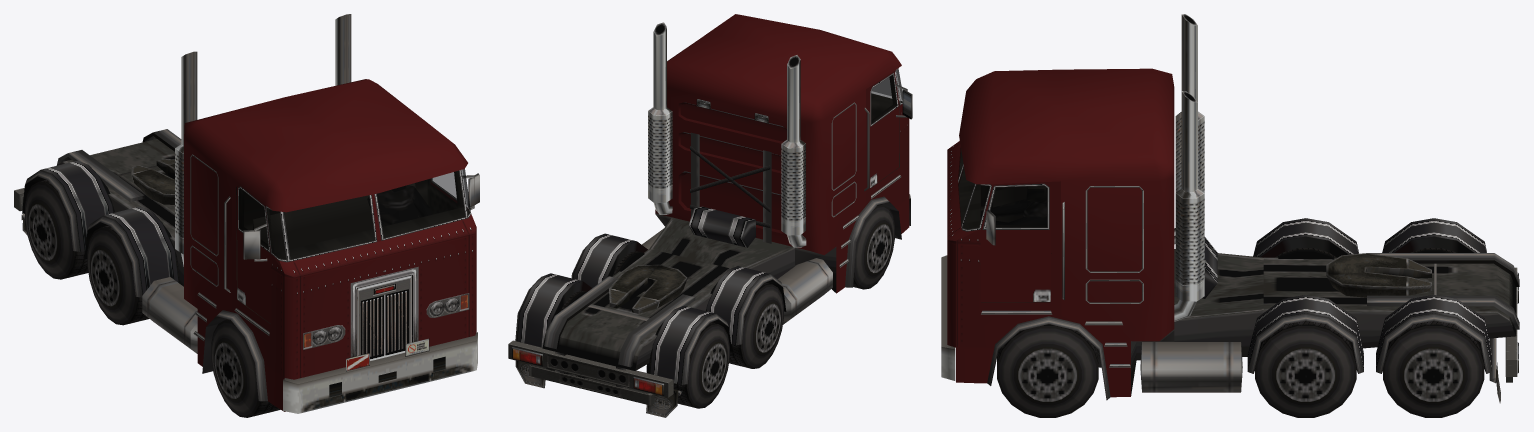
The model's file is tractor_cab_traffic_burnout_3.glb.
3 renders of one model, left to right at view 1: azimuth 30°, elevation 25°; view 2: azimuth 150°, elevation 25°; view 3: azimuth 270°, elevation 25°, orthographic. The views are drawn at different scales.
Visible parts, largest first — view 1: Car22_Body_0000_0000, Car22_Body_0000_0001, Car22_Body_0000_0002, Car22_Body_Part_0002_0000, Car22_Wheel_0004_0000, Car22_Wheel_0002_0000, Car22_Wheel_0000_0000, Car22_Body_Part_0001_0000, Car22_Body_Part_0001_0002, Car22_Body_Part_0000_0001, Car22_Body_Part_0001_0001, Car22_Body_Part_0000_0000 (+1 smaller); view 2: Car22_Body_0000_0000, Car22_Body_0000_0001, Car22_Body_Part_0003_0000, Car22_Wheel_0004_0000, Car22_Wheel_0002_0000, Car22_Wheel_0000_0000, Car22_Body_Part_0003_0001, Car22_Body_Part_0001_0000, Car22_Body_Part_0001_0002, Car22_Body_Part_0001_0001; view 3: Car22_Body_0000_0000, Car22_Body_0000_0001, Car22_Wheel_0003_0000, Car22_Wheel_0005_0000, Car22_Wheel_0001_0000, Car22_Body_Part_0000_0000, Car22_Body_Part_0000_0002, Car22_Body_0000_0002, Car22_Body_Part_0002_0000, Car22_Body_Part_0003_0000, Car22_Body_Part_0000_0001, Car22_Wheel_0002_0000.
Boxes of the visible parts, <box> form: Car22_Body_0000_0000: <box>56,14,476,411</box>; Car22_Body_0000_0001: <box>22,129,471,373</box>; Car22_Body_0000_0002: <box>266,169,470,259</box>; Car22_Body_Part_0002_0000: <box>283,332,477,413</box>; Car22_Wheel_0004_0000: <box>25,179,114,279</box>; Car22_Wheel_0002_0000: <box>87,225,179,325</box>; Car22_Wheel_0000_0000: <box>211,319,280,417</box>; Car22_Body_Part_0001_0000: <box>237,185,271,323</box>; Car22_Body_Part_0001_0002: <box>239,188,268,249</box>; Car22_Body_Part_0000_0001: <box>427,170,463,214</box>; Car22_Body_Part_0001_0001: <box>238,186,274,253</box>; Car22_Body_Part_0000_0000: <box>430,173,479,210</box>; Car22_Body_0000_0000: <box>542,14,909,370</box>; Car22_Body_0000_0001: <box>515,68,902,384</box>; Car22_Body_Part_0003_0000: <box>508,340,682,397</box>; Car22_Wheel_0004_0000: <box>646,322,729,408</box>; Car22_Wheel_0002_0000: <box>706,282,783,368</box>; Car22_Wheel_0000_0000: <box>853,204,894,289</box>; Car22_Body_Part_0003_0001: <box>515,360,678,417</box>; Car22_Body_Part_0001_0000: <box>870,71,912,187</box>; Car22_Body_Part_0001_0002: <box>871,75,896,123</box>; Car22_Body_Part_0001_0001: <box>870,72,898,126</box>; Car22_Body_0000_0000: <box>947,14,1516,399</box>; Car22_Body_0000_0001: <box>958,149,1519,399</box>; Car22_Wheel_0003_0000: <box>1255,320,1356,417</box>; Car22_Wheel_0005_0000: <box>1383,320,1484,417</box>; Car22_Wheel_0001_0000: <box>997,324,1098,417</box>; Car22_Body_Part_0000_0000: <box>980,183,1051,301</box>; Car22_Body_Part_0000_0002: <box>990,186,1047,227</box>; Car22_Body_0000_0002: <box>958,147,989,229</box>; Car22_Body_Part_0002_0000: <box>941,255,955,380</box>; Car22_Body_Part_0003_0000: <box>1489,267,1518,383</box>; Car22_Body_Part_0000_0001: <box>982,183,1049,229</box>; Car22_Wheel_0002_0000: <box>1275,248,1336,259</box>.
Size of the model in its own units: 0.0291 by 0.0366 by 0.0606.
2 materials, 1 textured.
